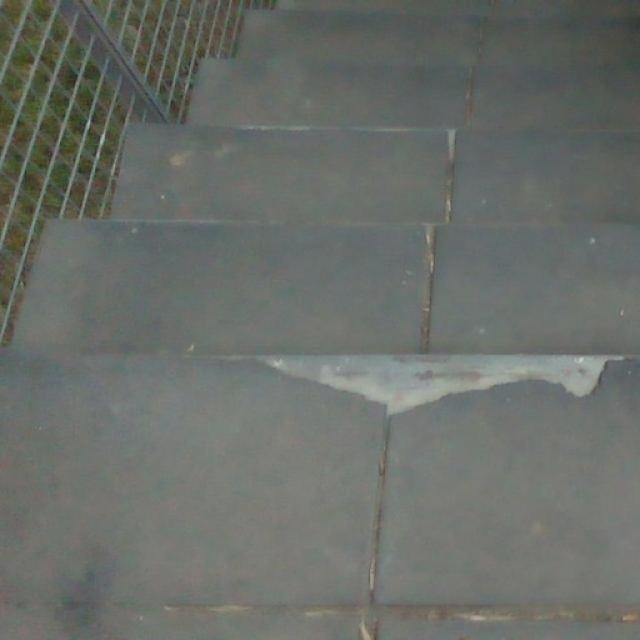stair: (101, 2, 640, 516)
